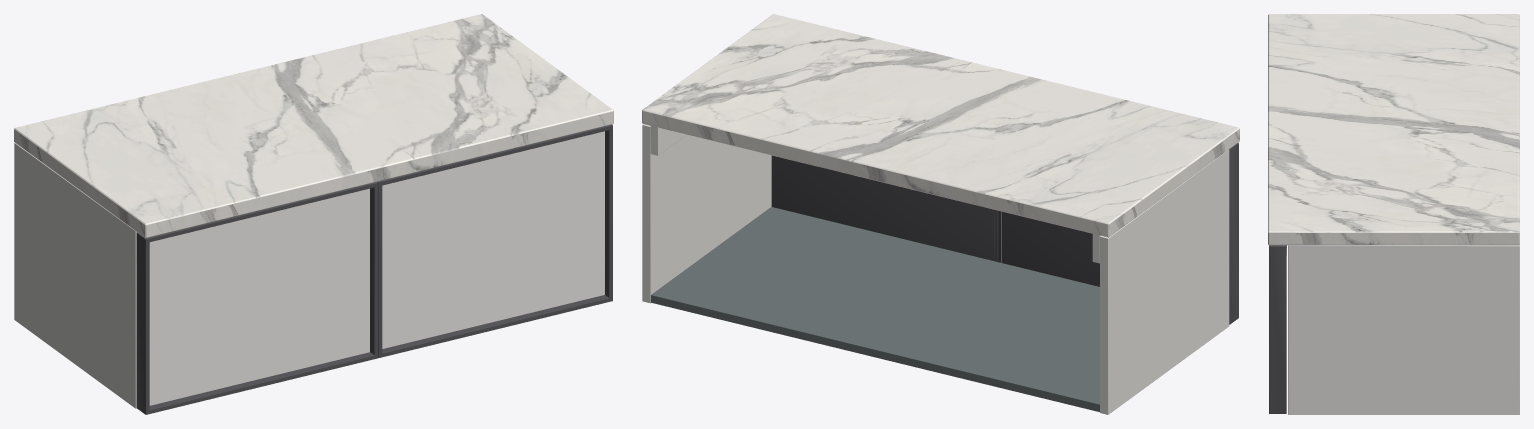
3 renders of one model, left to right at view 1: azimuth 30°, elevation 25°; view 2: azimuth 150°, elevation 25°; view 3: azimuth 270°, elevation 25°, orthographic. The views are drawn at different scales.
Parts seen in each view (by area): view 1: AT02; view 2: AT02; view 3: AT02.
Part boxes in pixels (bbox=[...]): AT02: bbox=[14, 14, 613, 414]; AT02: bbox=[642, 14, 1239, 414]; AT02: bbox=[1268, 14, 1519, 414].
Bounding box in the file's own units: 1 × 0.393 × 0.489.
5 materials, 3 textured.
